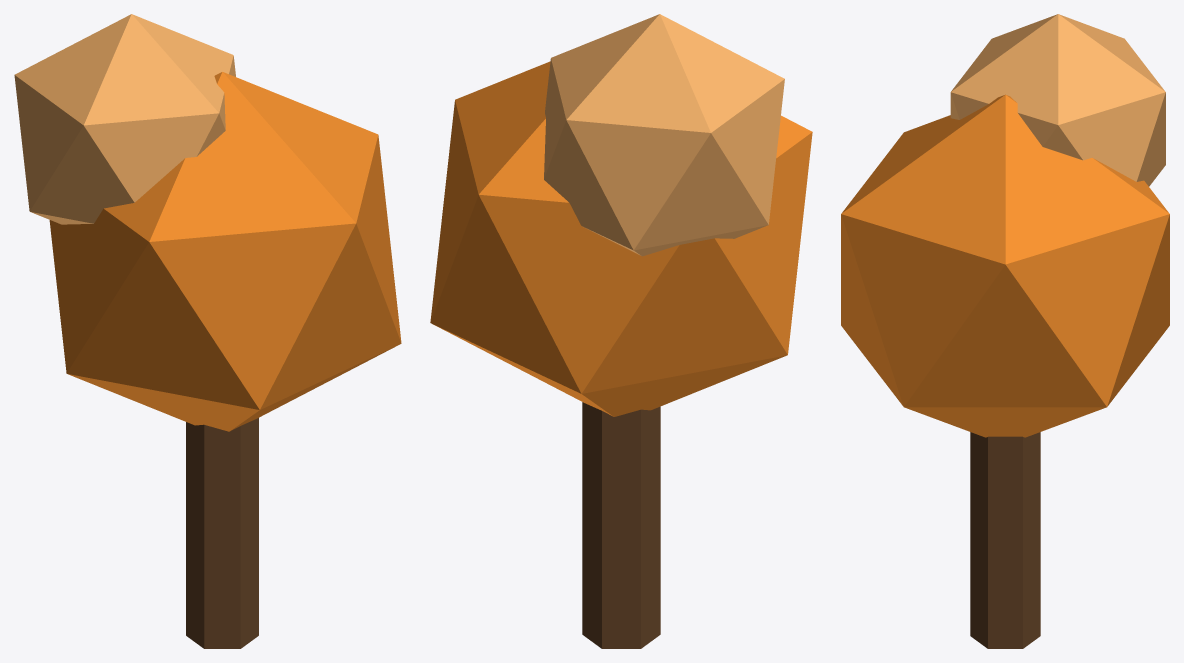
The model's file is tree_autumn.glb.
3 renders of one model, left to right at view 1: azimuth 30°, elevation 25°; view 2: azimuth 150°, elevation 25°; view 3: azimuth 270°, elevation 25°, orthographic. The views are drawn at different scales.
Visible parts, largest first — view 1: tree_autumn; view 2: tree_autumn; view 3: tree_autumn.
Boxes of the visible parts, x1,y1,x2,y2 form: tree_autumn: [14, 14, 401, 648]; tree_autumn: [430, 14, 812, 648]; tree_autumn: [841, 14, 1169, 648].
Size of the model in its own units: 1.01 by 1.86 by 0.9357.
1 material, 1 textured.
